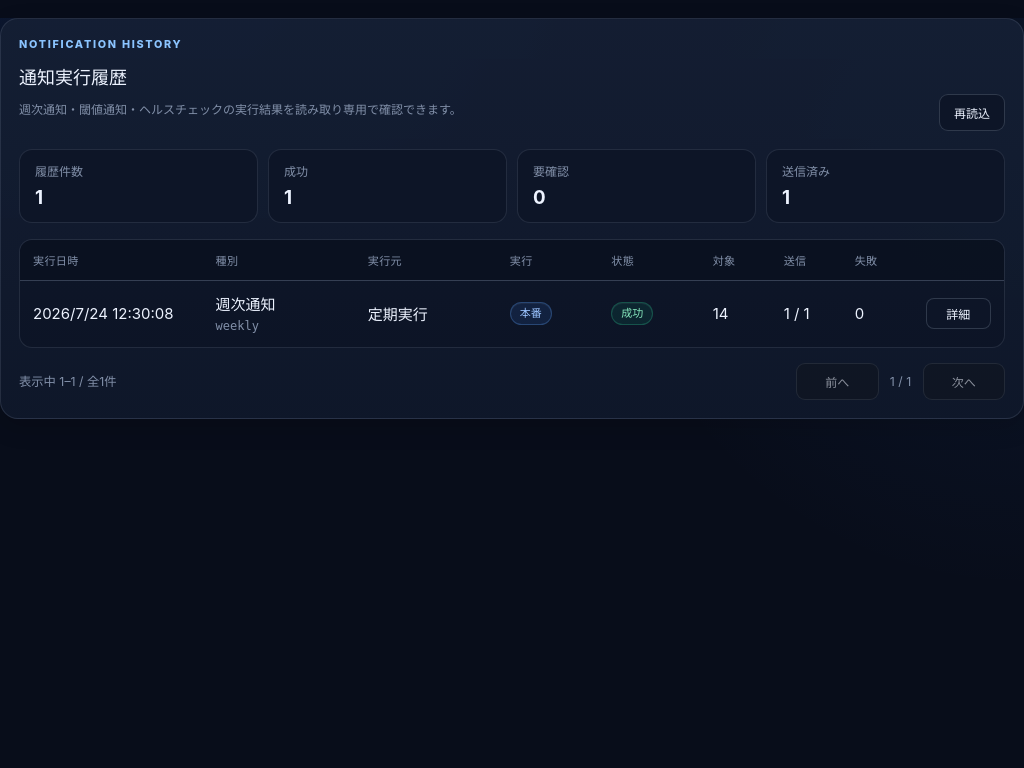
Test: NotificationHistory › 詳細が見つからない場合に404状態を表示する
Click the button "詳細" at (958, 314), box left=926, top=298, right=991, bottom=329
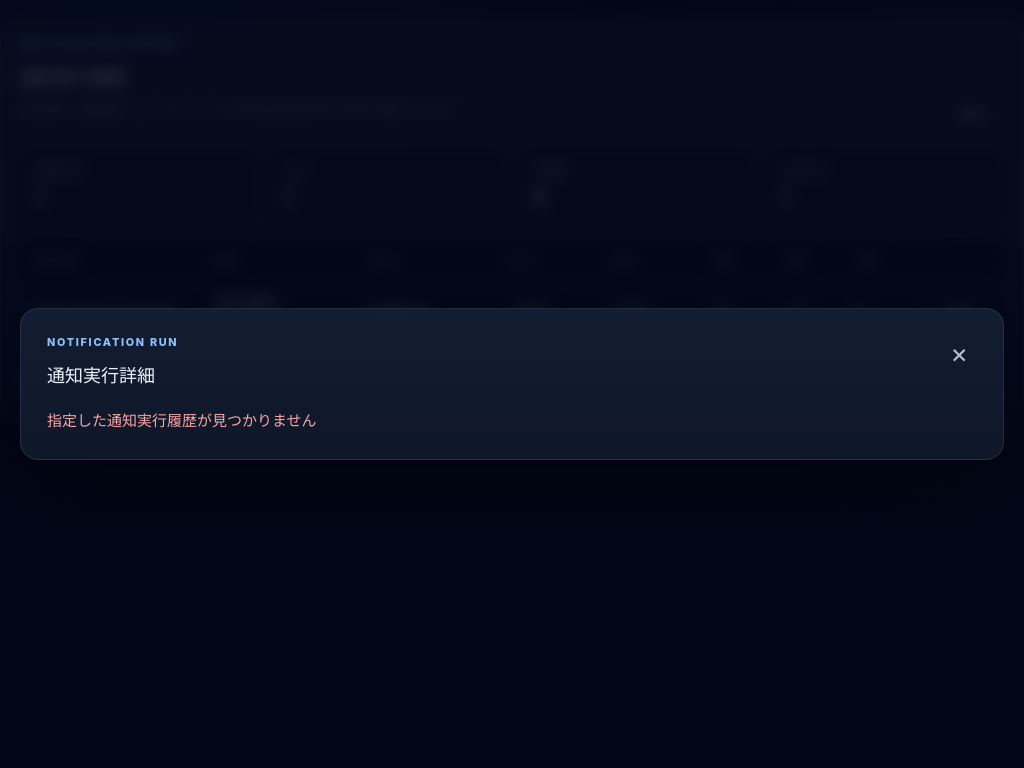
Expected: the message reads "指定した通知実行履歴が見つかりません", left=47, top=411, right=317, bottom=430
